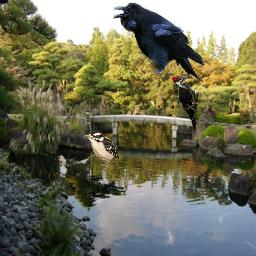Crow: (113, 2, 205, 81)
Woodpecker: (171, 74, 199, 136), (83, 131, 121, 164)
